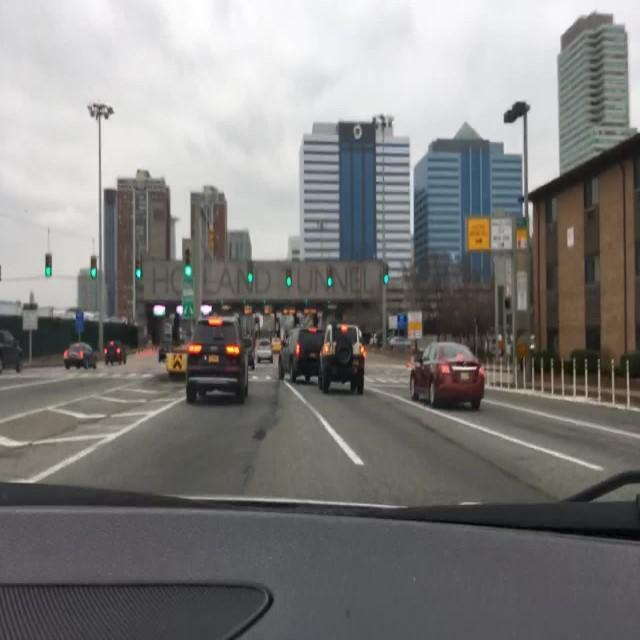normal: (75, 245, 512, 446)
